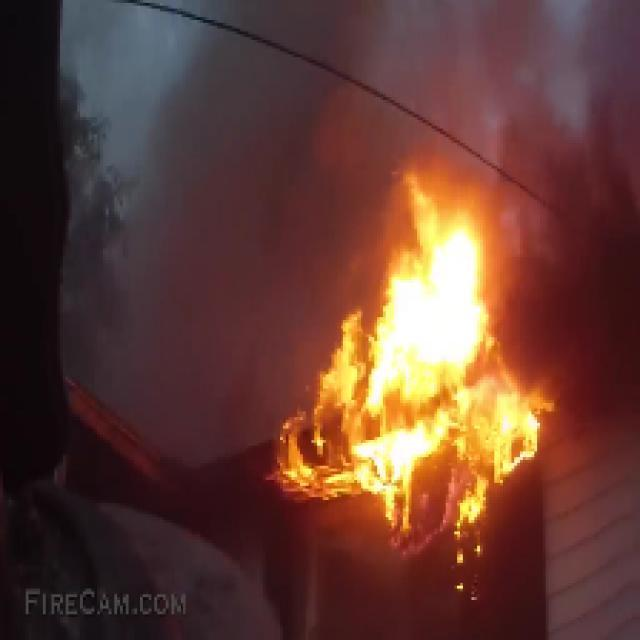Fire: (297, 214, 524, 519)
Smoke: (160, 77, 279, 412), (540, 174, 632, 390)
